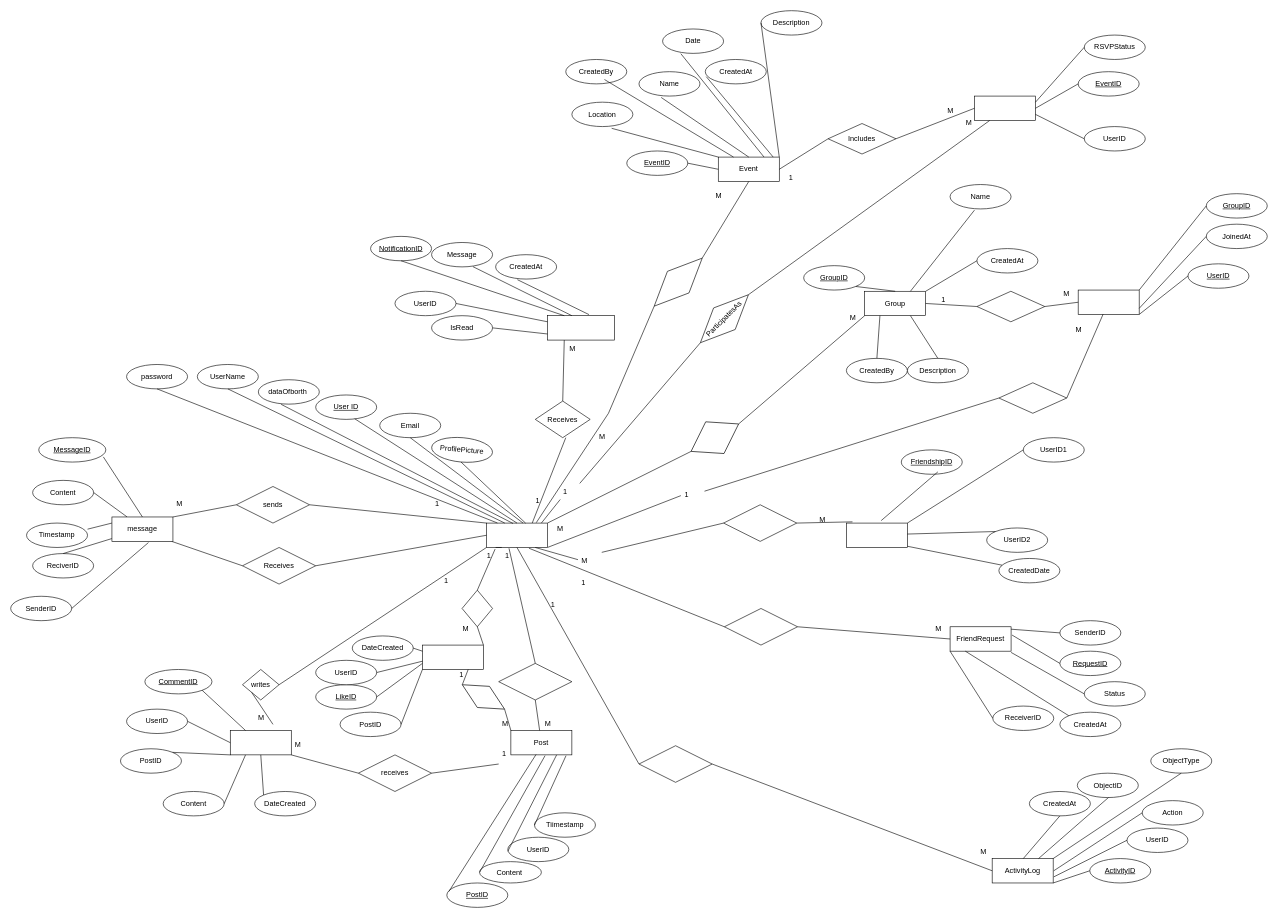
Some shapes in this 1278 by 918 pixel diagram are drawn without their labels. The shapes that lost their labels are listed below. From the top down, each one's centre as x and y in pixels, then its label:
the point at 1004,107: EventParticipant
the point at 678,282: ParticipatesIn
the point at 1108,301: GroupMember
the point at 1010,306: BelongsTo
the point at 581,327: Notification
the point at 1032,397: Represents
the point at 714,437: Joins
the point at 516,534: user
the point at 760,522: Friend With
the point at 876,534: Friendship
the point at 477,608: LIKES
the point at 761,626: send
the point at 452,656: LIke
the point at 483,696: HAS
the point at 535,681: Creates
the point at 260,742: Comment
the point at 675,763: Logs
